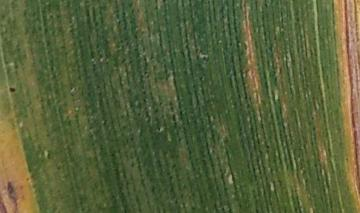tarspot: (7, 85, 18, 95)
